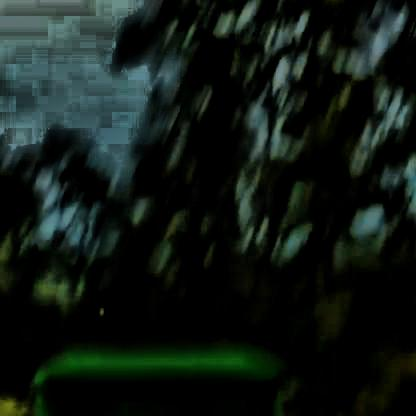golfball: (94, 302, 104, 312)
